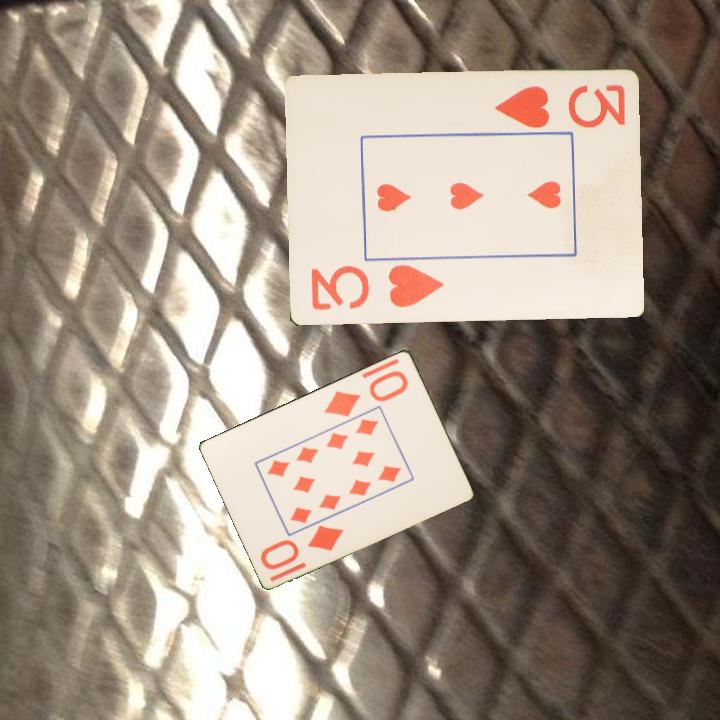10d: (320, 366, 411, 420), (257, 521, 347, 573)
3h: (307, 261, 446, 314), (490, 81, 628, 131)
